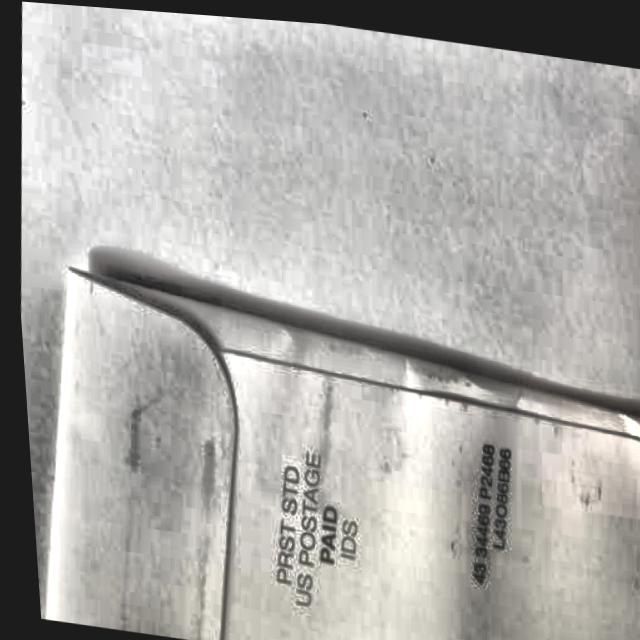Paper: (12, 235, 640, 640)
